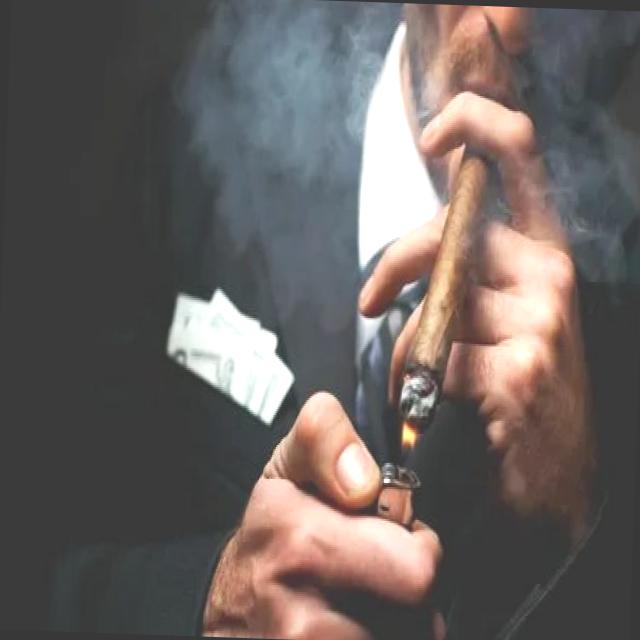cigarette: (391, 141, 498, 442)
